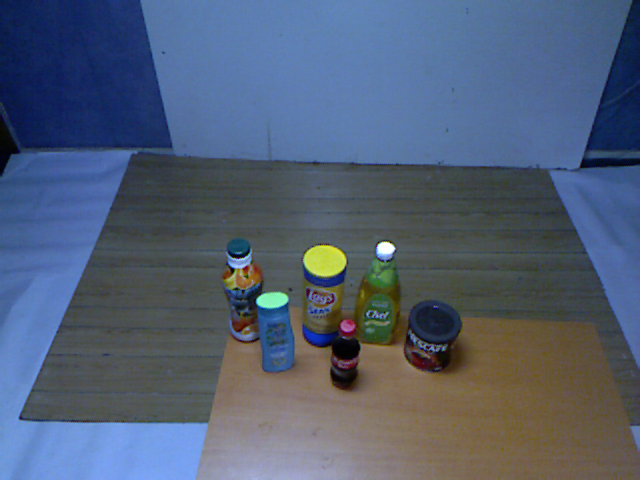aceite: (352, 236, 406, 352)
balsamo: (251, 286, 300, 377)
cafe: (401, 297, 463, 375)
coca: (325, 318, 362, 391)
papas: (297, 242, 350, 350)
yogurt: (217, 236, 273, 349)
